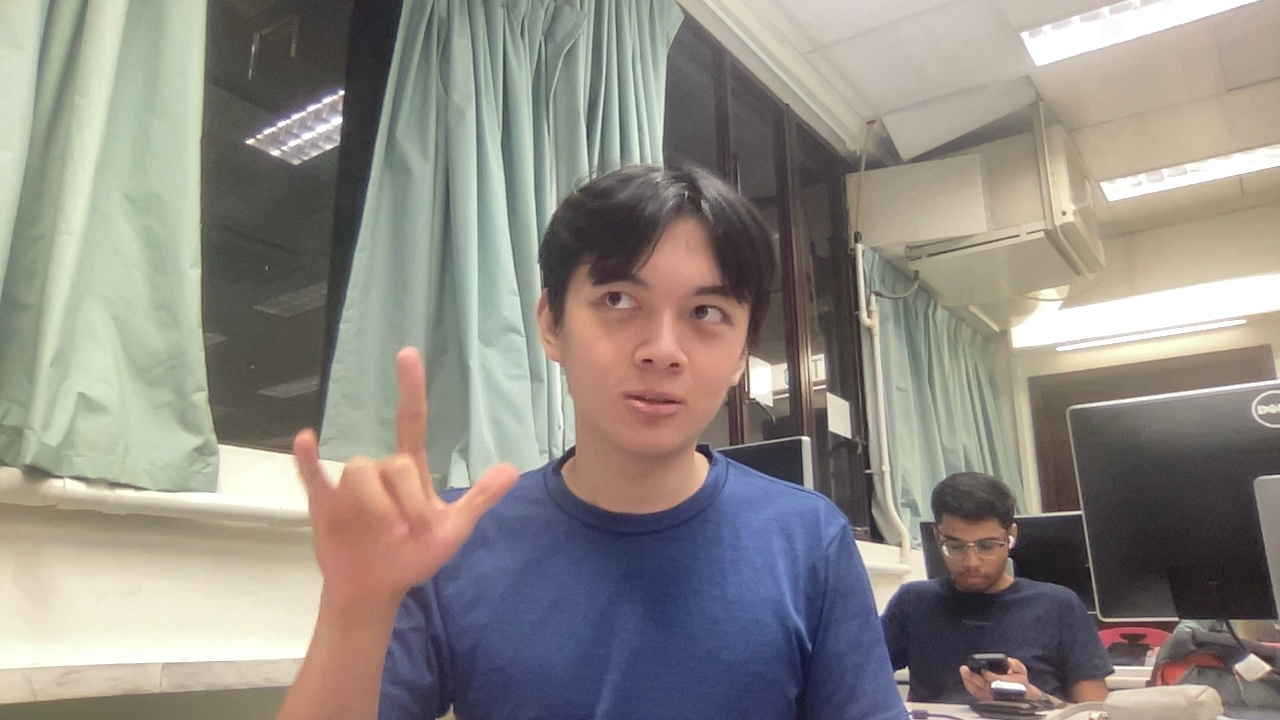iloveyou: (247, 330, 591, 614)
